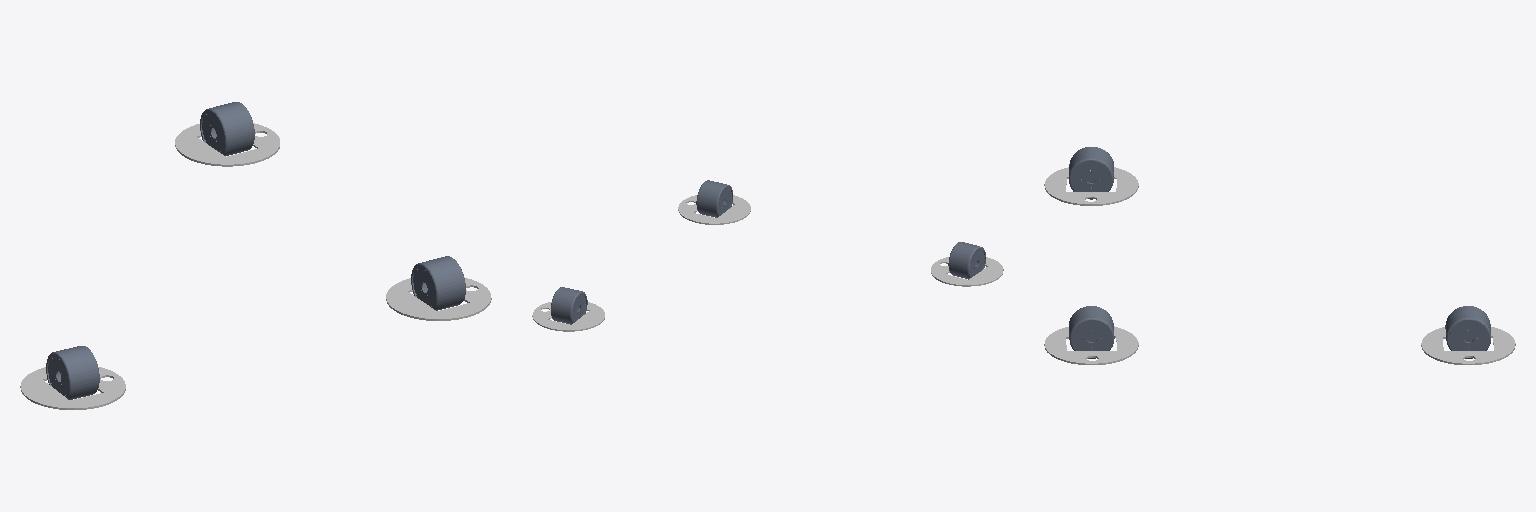
robot.urdf — rudder_chassis:
<?xml version="1.0" encoding="utf-8"?>
<!-- This URDF was automatically created by SolidWorks to URDF Exporter! Originally created by [author] ([email redacted]) 
     Commit Version: 1.6.0-4-g7f85cfe  Build Version: 1.6.7995.38578
     For more information, please see http://wiki.ros.org/sw_urdf_exporter -->
<robot name="rudder_chassis">
  <link name="base_link">
    <inertial>
      <origin xyz="-1.1102E-16 -0.2 -0.113" rpy="0 0 0" />
      <mass value="8.1835" />
      <inertia ixx="0.62059" ixy="-1.2685E-16" ixz="-9.1809E-19" iyy="0.64029" iyz="-2.3108E-18" izz="1.2603" />
    </inertial>
    <visual>
      <origin xyz="0 0 0" rpy="0 0 0" />
      <geometry>
        <mesh filename="package://rudder_chassis/meshes/base_link.STL" />
      </geometry>
      <material name="">
        <color rgba="0 0 0 1" />
      </material>
    </visual>
    <collision>
      <origin xyz="0 0 0" rpy="0 0 0" />
      <geometry>
        <mesh filename="package://rudder_chassis/meshes/base_link.STL" />
      </geometry>
    </collision>
  </link>
  <link name="steer_wheel_0">
    <inertial>
      <origin xyz="0.00050865 1.464E-05 -0.0049387" rpy="0 0 0" />
      <mass value="0.33845" />
      <inertia ixx="0.0003822" ixy="2.0346E-06" ixz="-1.2317E-21" iyy="0.00031157" iyz="7.418E-22" izz="0.00044643" />
    </inertial>
    <visual>
      <origin xyz="0 0 0" rpy="0 0 0" />
      <geometry>
        <mesh filename="package://rudder_chassis/meshes/steer_wheel_0.STL" />
      </geometry>
      <material name="">
        <color rgba="0.8 0.8 0.8  1" />
      </material>
    </visual>
    <collision>
      <origin xyz="0 0 0" rpy="0 0 0" />
      <geometry>
        <mesh filename="package://rudder_chassis/meshes/steer_wheel_0.STL" />
      </geometry>
    </collision>
  </link>
  <joint name="steer_wheel_0_joint" type="continuous">
    <origin xyz="-0.3 0.1 -0.1" rpy="0 0 0" />
    <parent link="base_link" />
    <child link="steer_wheel_0" />
    <axis xyz="0 0 1" />
  </joint>
  <link name="drive_wheel_0">
    <inertial>
      <origin xyz="0.0010578 3.0446E-05 -2.2204E-16" rpy="0 0 0" />
      <mass value="0.26071" />
      <inertia ixx="0.00024717" ixy="2.0802E-06" ixz="-1.2293E-21" iyy="0.00017495" iyz="9.1937E-22" izz="0.00017489" />
    </inertial>
    <visual>
      <origin xyz="0 0 0" rpy="0 0 0" />
      <geometry>
        <mesh filename="package://rudder_chassis/meshes/drive_wheel_0.STL" />
      </geometry>
      <material name="">
        <color rgba="0.455 0.490 0.549 1" />
      </material>
    </visual>
    <collision>
      <origin xyz="0 0 0" rpy="0 0 0" />
      <geometry>
        <mesh filename="package://rudder_chassis/meshes/drive_wheel_0.STL" />
      </geometry>
    </collision>
  </link>
  <joint name="drive_wheel_0_joint" type="continuous">
    <origin xyz="0 0 0" rpy="0 0 0" />
    <parent link="steer_wheel_0" />
    <child link="drive_wheel_0" />
    <axis xyz="-0.99959 -0.02877 0" />
  </joint>
  <link name="steer_wheel_1">
    <inertial>
      <origin xyz="0.00050865 1.464E-05 -0.0049387" rpy="0 0 0" />
      <mass value="0.33845" />
      <inertia ixx="0.0003822" ixy="2.0346E-06" ixz="-4.1526E-22" iyy="0.00031157" iyz="-1.9771E-21" izz="0.00044643" />
    </inertial>
    <visual>
      <origin xyz="0 0 0" rpy="0 0 0" />
      <geometry>
        <mesh filename="package://rudder_chassis/meshes/steer_wheel_1.STL" />
      </geometry>
      <material name="">
        <color rgba="0.8 0.8 0.8 1" />
      </material>
    </visual>
    <collision>
      <origin xyz="0 0 0" rpy="0 0 0" />
      <geometry>
        <mesh filename="package://rudder_chassis/meshes/steer_wheel_1.STL" />
      </geometry>
    </collision>
  </link>
  <joint name="steer_wheel_1_joint" type="continuous">
    <origin xyz="0.3 0.1 -0.1" rpy="0 0 0" />
    <parent link="base_link" />
    <child link="steer_wheel_1" />
    <axis xyz="0 0 1" />
  </joint>
  <link name="drive_wheel_1">
    <inertial>
      <origin xyz="0.0010578 3.0446E-05 -1.1102E-16" rpy="0 0 0" />
      <mass value="0.26071" />
      <inertia ixx="0.00024717" ixy="2.0802E-06" ixz="-4.2975E-22" iyy="0.00017495" iyz="-1.8244E-21" izz="0.00017489" />
    </inertial>
    <visual>
      <origin xyz="0 0 0" rpy="0 0 0" />
      <geometry>
        <mesh filename="package://rudder_chassis/meshes/drive_wheel_1.STL" />
      </geometry>
      <material name="">
        <color rgba="0.455 0.490 0.549 1" />
      </material>
    </visual>
    <collision>
      <origin xyz="0 0 0" rpy="0 0 0" />
      <geometry>
        <mesh filename="package://rudder_chassis/meshes/drive_wheel_1.STL" />
      </geometry>
    </collision>
  </link>
  <joint name="drive_wheel_1_joint" type="continuous">
    <origin xyz="0 0 0" rpy="0 0 0" />
    <parent link="steer_wheel_1" />
    <child link="drive_wheel_1" />
    <axis xyz="-0.99959 -0.02877 0" />
  </joint>
  <link name="steer_wheel_2">
    <inertial>
      <origin xyz="0.00050865 1.464E-05 -0.0049387" rpy="0 0 0" />
      <mass value="0.33845" />
      <inertia ixx="0.0003822" ixy="2.0346E-06" ixz="-1.8428E-22" iyy="0.00031157" iyz="3.8553E-22" izz="0.00044643" />
    </inertial>
    <visual>
      <origin xyz="0 0 0" rpy="0 0 0" />
      <geometry>
        <mesh filename="package://rudder_chassis/meshes/steer_wheel_2.STL" />
      </geometry>
      <material name="">
        <color rgba="0.8 0.8 0.8 1" />
      </material>
    </visual>
    <collision>
      <origin xyz="0 0 0" rpy="0 0 0" />
      <geometry>
        <mesh filename="package://rudder_chassis/meshes/steer_wheel_2.STL" />
      </geometry>
    </collision>
  </link>
  <joint name="steer_wheel_2_joint" type="continuous">
    <origin xyz="0.3 -0.5 -0.1" rpy="0 0 0" />
    <parent link="base_link" />
    <child link="steer_wheel_2" />
    <axis xyz="0 0 1" />
  </joint>
  <link name="drive_wheel_2">
    <inertial>
      <origin xyz="0.0010578 3.0446E-05 0" rpy="0 0 0" />
      <mass value="0.26071" />
      <inertia ixx="0.00024717" ixy="2.0802E-06" ixz="-1.0834E-22" iyy="0.00017495" iyz="4.3987E-22" izz="0.00017489" />
    </inertial>
    <visual>
      <origin xyz="0 0 0" rpy="0 0 0" />
      <geometry>
        <mesh filename="package://rudder_chassis/meshes/drive_wheel_2.STL" />
      </geometry>
      <material name="">
        <color rgba="0.455 0.490 0.549 1" />
      </material>
    </visual>
    <collision>
      <origin xyz="0 0 0" rpy="0 0 0" />
      <geometry>
        <mesh filename="package://rudder_chassis/meshes/drive_wheel_2.STL" />
      </geometry>
    </collision>
  </link>
  <joint name="drive_wheel_2_joint" type="continuous">
    <origin xyz="0 0 0" rpy="0 0 0" />
    <parent link="steer_wheel_2" />
    <child link="drive_wheel_2" />
    <axis xyz="-0.99959 -0.02877 0" />
  </joint>
  <link name="steer_wheel_3">
    <inertial>
      <origin xyz="0.00050873 -1.1289E-05 -0.0049387" rpy="0 0 0" />
      <mass value="0.33845" />
      <inertia ixx="0.00038223" ixy="-1.5692E-06" ixz="-7.7562E-22" iyy="0.00031155" iyz="-4.4542E-21" izz="0.00044643" />
    </inertial>
    <visual>
      <origin xyz="0 0 0" rpy="0 0 0" />
      <geometry>
        <mesh filename="package://rudder_chassis/meshes/steer_wheel_3.STL" />
      </geometry>
      <material name="">
        <color rgba="0.8 0.8 0.8 1" />
      </material>
    </visual>
    <collision>
      <origin xyz="0 0 0" rpy="0 0 0" />
      <geometry>
        <mesh filename="package://rudder_chassis/meshes/steer_wheel_3.STL" />
      </geometry>
    </collision>
  </link>
  <joint name="steer_wheel_3_joint" type="continuous">
    <origin xyz="-0.3 -0.5 -0.1" rpy="0 0 0" />
    <parent link="base_link" />
    <child link="steer_wheel_3" />
    <axis xyz="0 0 1" />
  </joint>
  <link name="drive_wheel_3">
    <inertial>
      <origin xyz="0.001058 -2.3477E-05 0" rpy="0 0 0" />
      <mass value="0.26071" />
      <inertia ixx="0.00024719" ixy="-1.6043E-06" ixz="-8.327E-22" iyy="0.00017493" iyz="-4.5806E-21" izz="0.00017489" />
    </inertial>
    <visual>
      <origin xyz="0 0 0" rpy="0 0 0" />
      <geometry>
        <mesh filename="package://rudder_chassis/meshes/drive_wheel_3.STL" />
      </geometry>
      <material name="">
        <color rgba="0.455 0.490 0.549 1" />
      </material>
    </visual>
    <collision>
      <origin xyz="0 0 0" rpy="0 0 0" />
      <geometry>
        <mesh filename="package://rudder_chassis/meshes/drive_wheel_3.STL" />
      </geometry>
    </collision>
  </link>
  <joint name="drive_wheel_3_joint" type="continuous">
    <origin xyz="0 0 0" rpy="0 0 0" />
    <parent link="steer_wheel_3" />
    <child link="drive_wheel_3" />
    <axis xyz="-0.99975 0.022184 0" />
  </joint>
</robot>

--- What the picture shows (computed from the rendered views, not written in the file) ---
Views: 3 orthographic renders of the robot side by side, from view 1: azimuth 30°, elevation 25°; view 2: azimuth 150°, elevation 25°; view 3: azimuth 270°, elevation 25°.
Robot: rudder_chassis — 9 links, 8 joints (8 continuous); root link base_link; default pose: every joint at zero.
Visible links, largest first — view 1: drive_wheel_2, drive_wheel_1, drive_wheel_3, steer_wheel_3, steer_wheel_2, steer_wheel_1; view 2: drive_wheel_3, drive_wheel_1, steer_wheel_2, steer_wheel_1, drive_wheel_2, steer_wheel_3; view 3: steer_wheel_1, steer_wheel_2, drive_wheel_3, drive_wheel_1, drive_wheel_2, steer_wheel_3.
Link boxes in pixels (x1,y1,x2,y2): drive_wheel_2: (411,256,465,310); drive_wheel_1: (200,102,254,155); drive_wheel_3: (46,346,99,399); steer_wheel_3: (20,367,125,409); steer_wheel_2: (386,277,491,320); steer_wheel_1: (175,123,279,166); drive_wheel_3: (948,242,985,279); drive_wheel_1: (551,287,587,324); steer_wheel_2: (678,195,750,224); steer_wheel_1: (532,302,604,331); drive_wheel_2: (696,180,732,217); steer_wheel_3: (931,257,1003,286); steer_wheel_1: (1421,327,1515,364); steer_wheel_2: (1044,326,1138,364); drive_wheel_3: (1069,147,1113,199); drive_wheel_1: (1445,306,1490,358); drive_wheel_2: (1069,306,1114,358); steer_wheel_3: (1044,167,1138,205).
Bounding box of the posed robot: 0.7497 × 0.75 × 0.0719 m (x, y, z).
Meshes: 9 distinct files referenced, 6 mesh visuals loaded (6 binary STL); not drawn: 3 (reference not matched to a file when rendering).